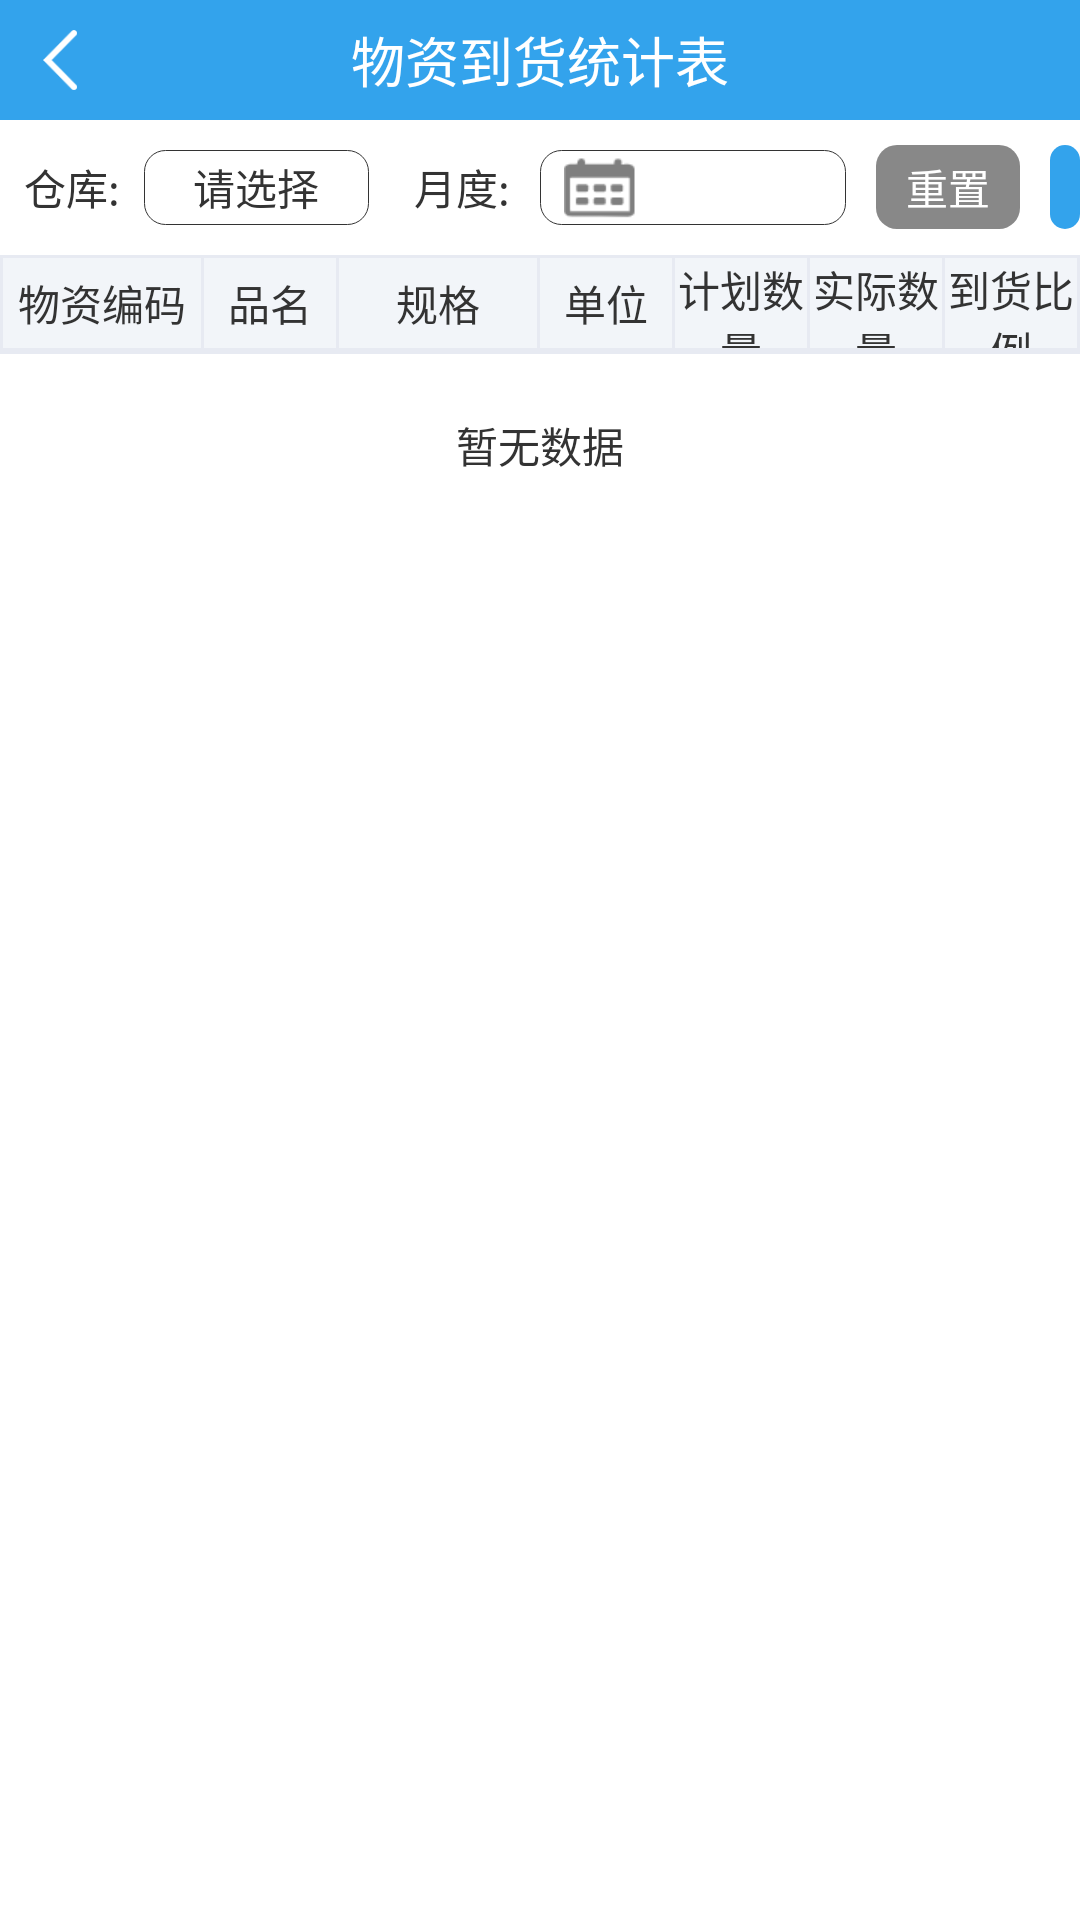

Icons on this 1080 x 1920 Android screen, each with its box as detection(x1, y1, x2, y2):
back: detection(43, 30, 77, 90)
calendar: detection(564, 158, 635, 217)
